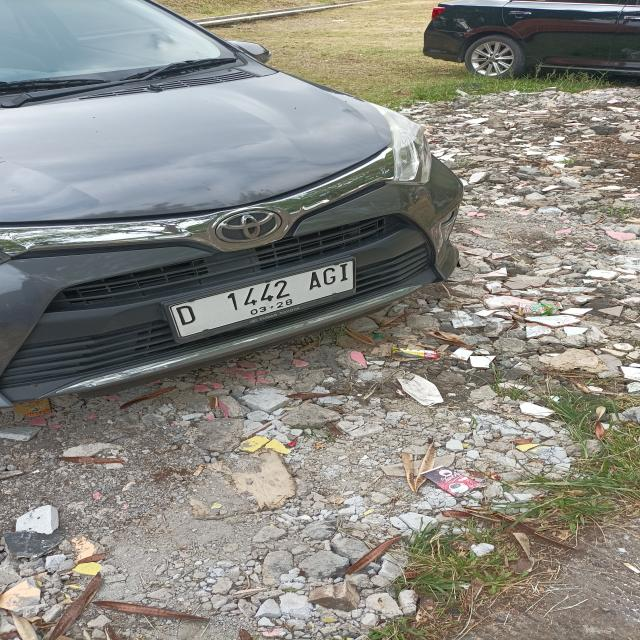license-plat: (158, 254, 362, 344)
